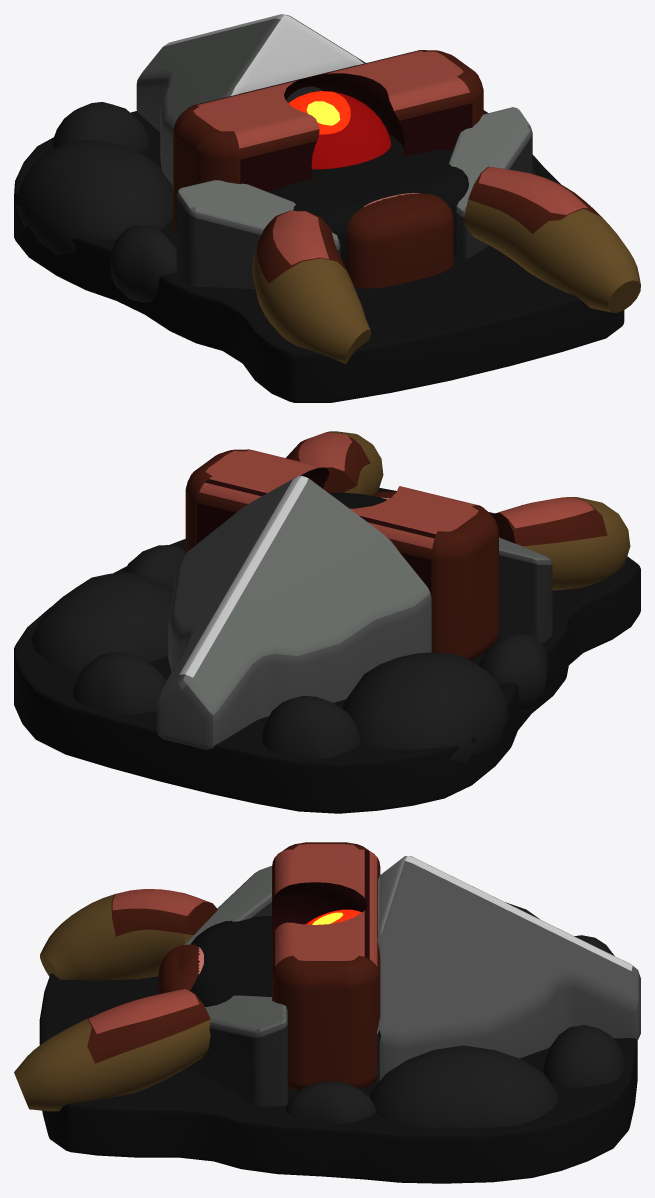
The model's file is hood_turret.glb.
3 renders of one model, top to bottom at view 1: azimuth 30°, elevation 25°; view 2: azimuth 150°, elevation 25°; view 3: azimuth 270°, elevation 25°, orthographic. The views are drawn at different scales.
Parts seen in each view (by area): view 1: pit, band, claw1, hood, boulder0, claw0, cheek1, chin, core, cheek-1, eye, boulder4 (+1 smaller); view 2: hood, pit, band, boulder0, boulder3, claw0, cheek1, boulder1, boulder2, claw1, boulder4, boulder5 (+1 smaller); view 3: pit, hood, band, claw1, boulder3, claw0, cheek-1, core, boulder2, boulder5, cheek1, chin (+1 smaller).
Part boxes in pixels (x1=…): pit: x1=14, y1=110, x2=624, y2=402; band: x1=173, y1=50, x2=483, y2=238; claw1: x1=464, y1=166, x2=640, y2=312; hood: x1=136, y1=14, x2=365, y2=192; boulder0: x1=16, y1=140, x2=173, y2=255; claw0: x1=252, y1=210, x2=371, y2=363; cheek1: x1=176, y1=180, x2=340, y2=289; chin: x1=346, y1=193, x2=453, y2=288; core: x1=268, y1=134, x2=468, y2=269; cheek-1: x1=449, y1=107, x2=532, y2=258; eye: x1=288, y1=91, x2=391, y2=169; boulder4: x1=110, y1=225, x2=176, y2=302; hood: x1=156, y1=475, x2=431, y2=749; pit: x1=14, y1=488, x2=640, y2=813; band: x1=185, y1=449, x2=498, y2=660; boulder0: x1=342, y1=652, x2=508, y2=762; boulder3: x1=31, y1=572, x2=173, y2=671; claw0: x1=492, y1=497, x2=630, y2=590; cheek1: x1=497, y1=537, x2=552, y2=643; boulder1: x1=262, y1=696, x2=360, y2=758; boulder2: x1=73, y1=652, x2=166, y2=714; claw1: x1=286, y1=431, x2=383, y2=495; boulder4: x1=479, y1=633, x2=548, y2=711; boulder5: x1=124, y1=545, x2=185, y2=590; pit: x1=39, y1=973, x2=637, y2=1183; hood: x1=377, y1=856, x2=640, y2=1083; band: x1=272, y1=842, x2=380, y2=1090; claw1: x1=14, y1=988, x2=210, y2=1111; boulder3: x1=370, y1=1045, x2=557, y2=1128; claw0: x1=40, y1=889, x2=217, y2=980; cheek-1: x1=189, y1=995, x2=287, y2=1106; core: x1=190, y1=916, x2=272, y2=1006; boulder2: x1=543, y1=1025, x2=624, y2=1087; boulder5: x1=286, y1=1081, x2=375, y2=1123; cheek1: x1=185, y1=866, x2=271, y2=944; chin: x1=158, y1=944, x2=203, y2=994.
Bounding box in the file's own units: 22.14 × 10.59 × 27.53.
